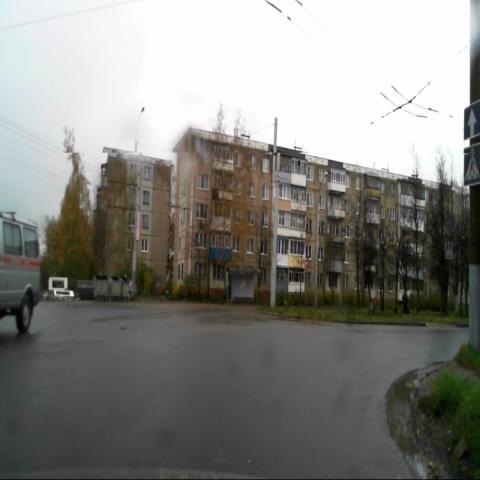5_19_1: (463, 144, 480, 186)
5_5: (464, 100, 480, 140)
